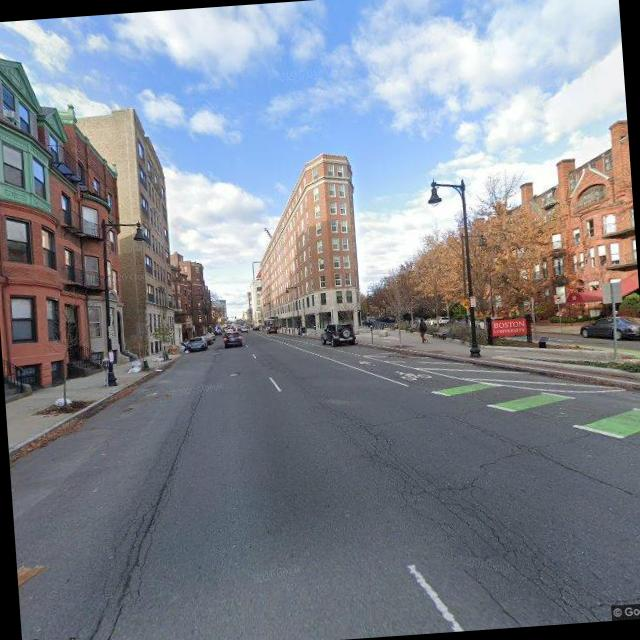crack: (328, 392, 618, 634)
pothole: (58, 387, 213, 640)
